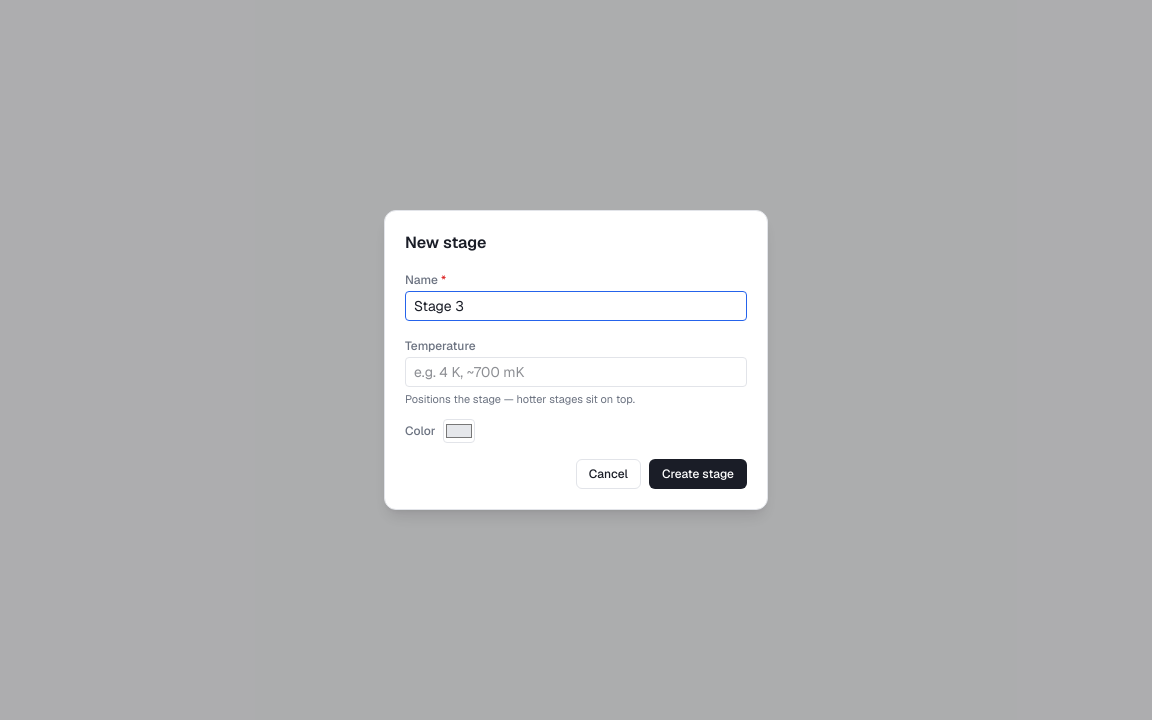
Test: StageModal › requires a name before creating
Clear the field labelled "Name" at point(576, 306), box [405,291,747,321]
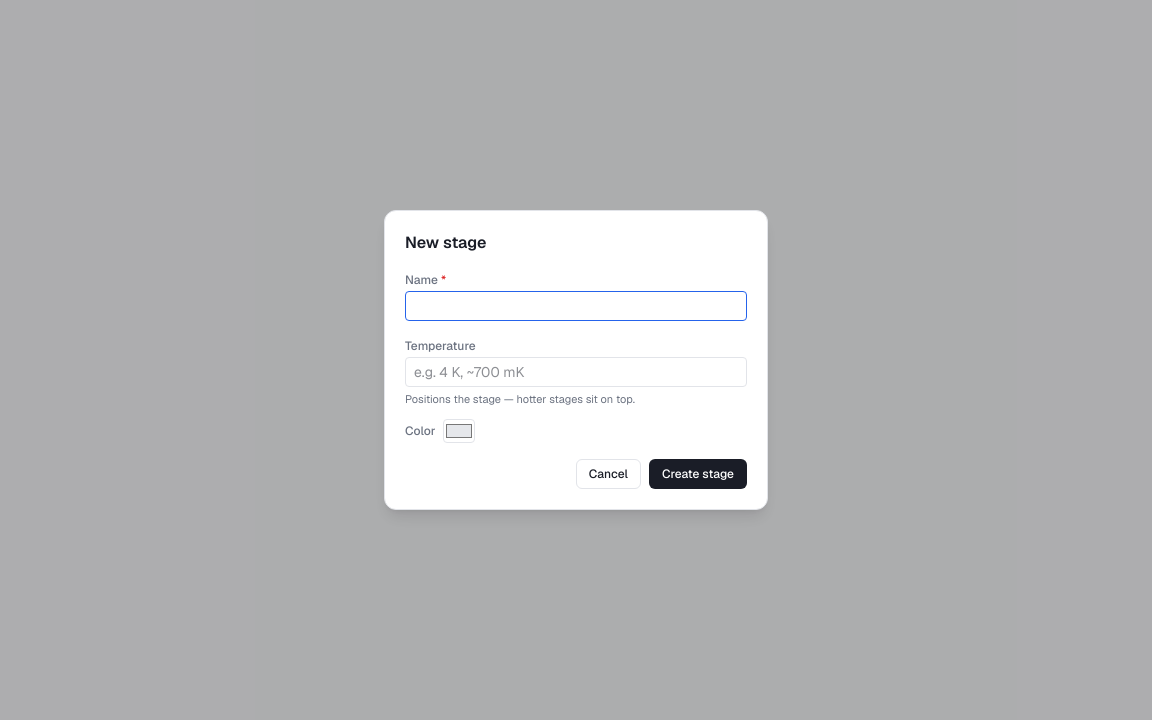
Click the button "Create stage" at point(698, 474), box [649,459,747,489]
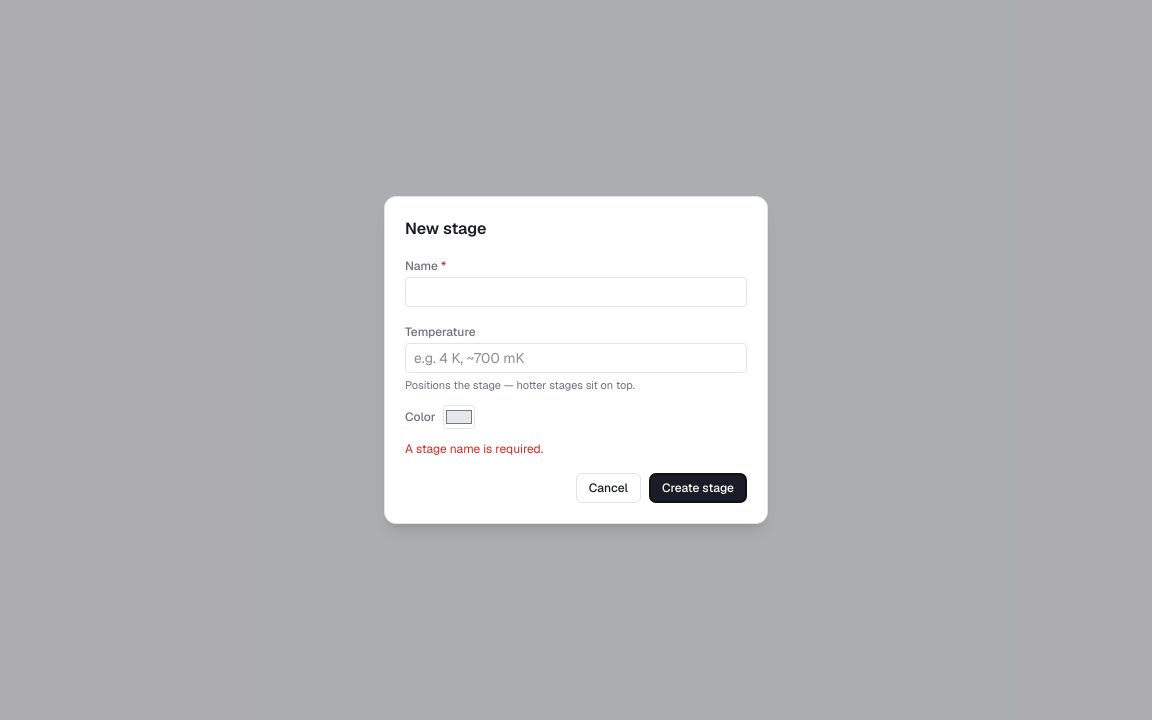
Check: the message "A stage name is required." is shown, box [405,441,543,457]
